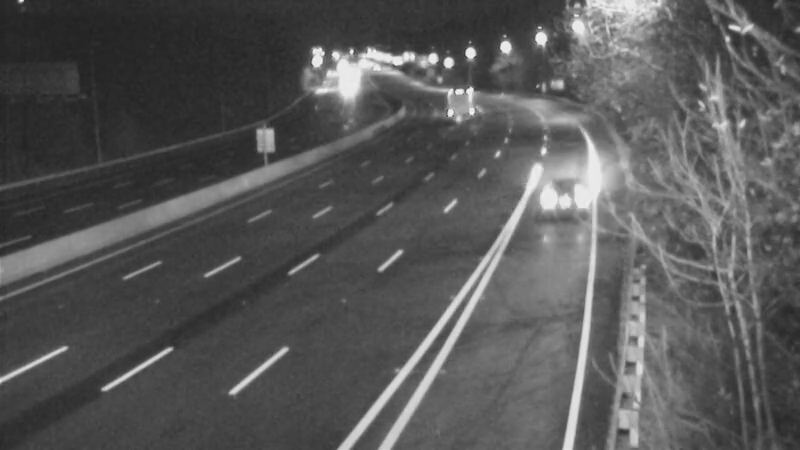vehicle: (512, 149, 592, 229), (426, 70, 476, 120), (323, 66, 373, 116)
